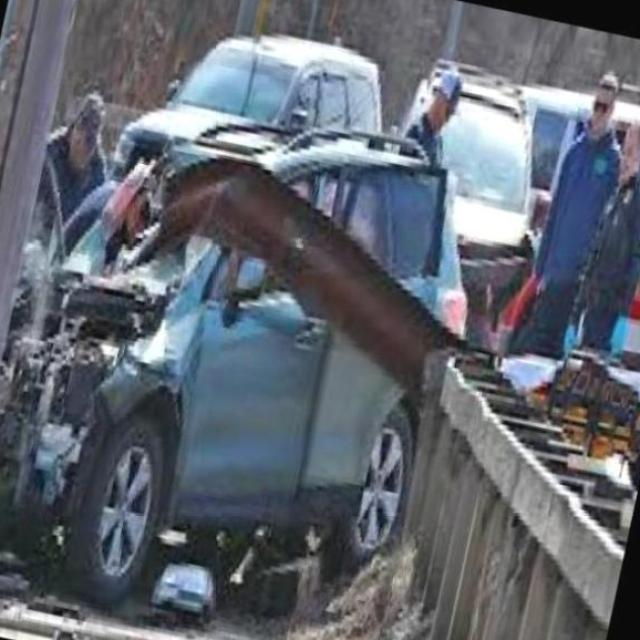accident: (0, 41, 522, 640)
